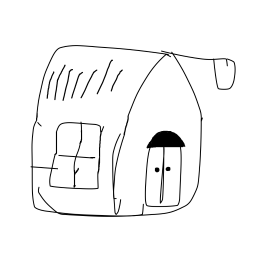closed_window: (46, 117, 108, 193)
door: (138, 123, 189, 211)
single_line_roof: (24, 32, 245, 123)
wall: (108, 46, 209, 221)
